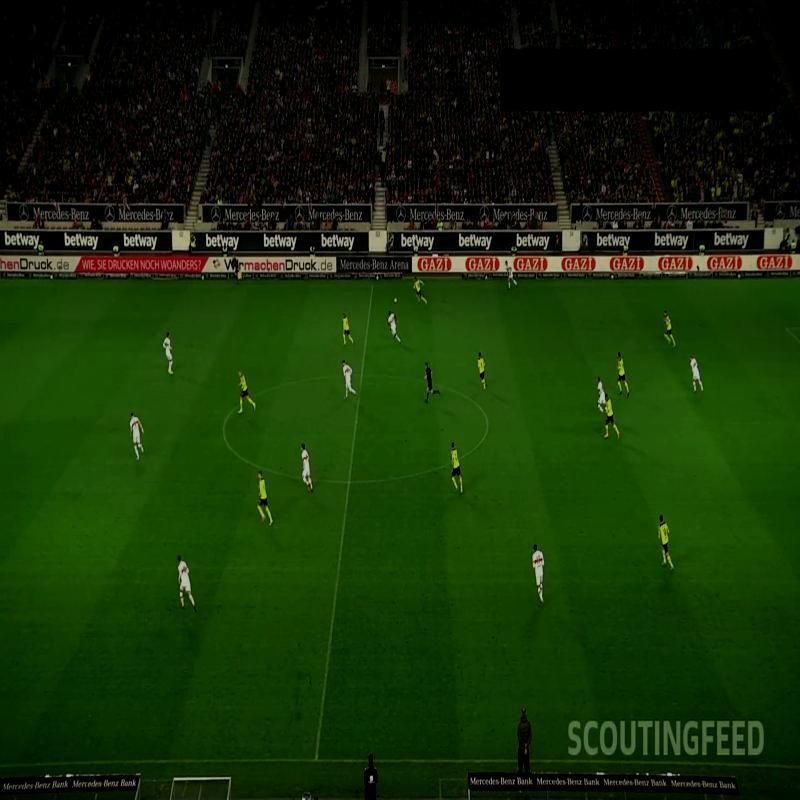13: (364, 276, 378, 290)
14: (356, 368, 370, 382)
15: (342, 475, 356, 489)
16: (298, 742, 332, 774), (654, 752, 668, 766)
9: (780, 320, 794, 334)
c: (478, 414, 499, 438), (216, 423, 230, 437)
